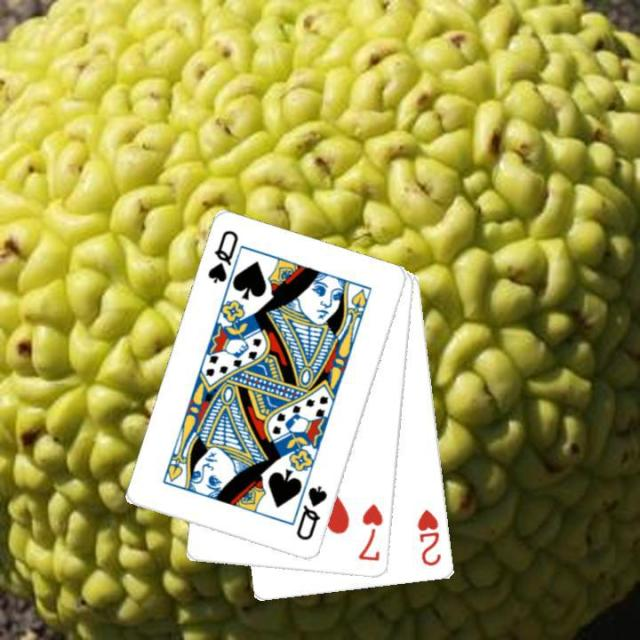2H: (414, 506, 444, 569)
7H: (355, 499, 385, 564)
QS: (292, 482, 330, 543), (203, 227, 241, 286)
